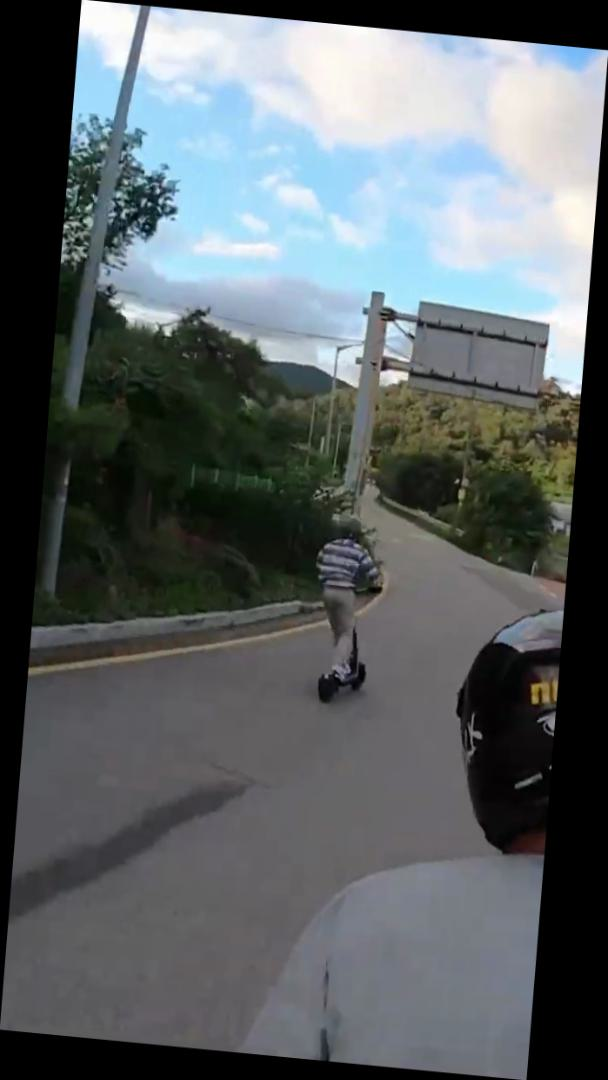helmet: (302, 510, 387, 709)
